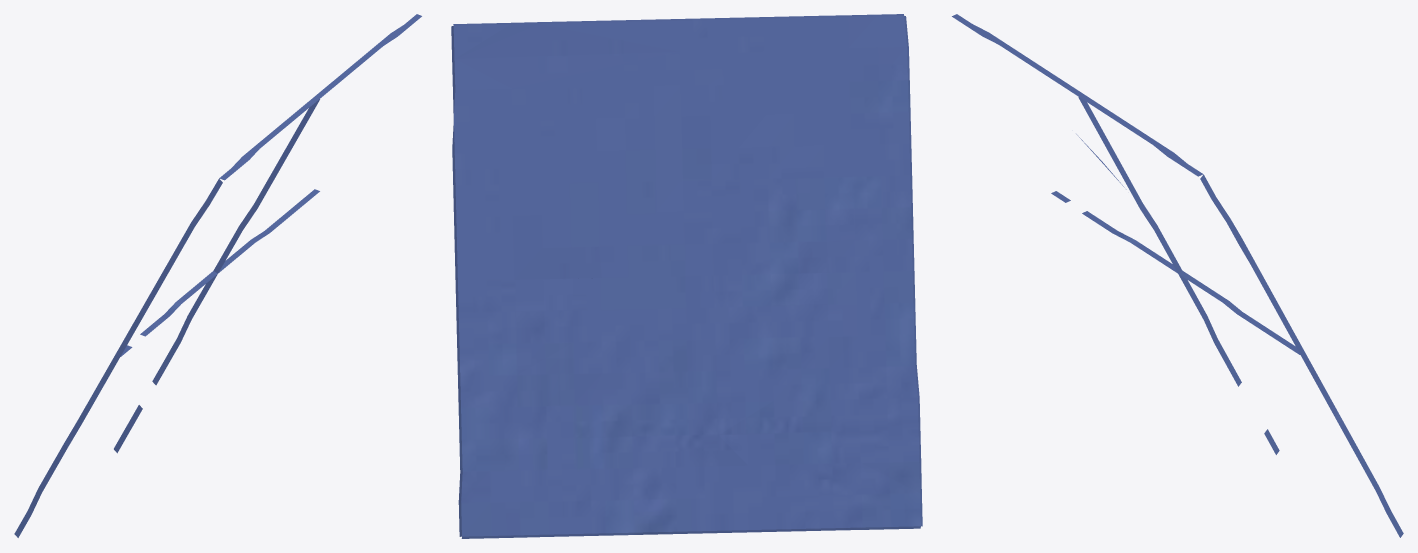
3 renders of one model, left to right at view 1: azimuth 30°, elevation 25°; view 2: azimuth 150°, elevation 25°; view 3: azimuth 270°, elevation 25°, orthographic. The views are drawn at different scales.
Bounding box in the file's own units: 157736 × 140745 × 138303.
Materials: 1 (1 with a texture image).
